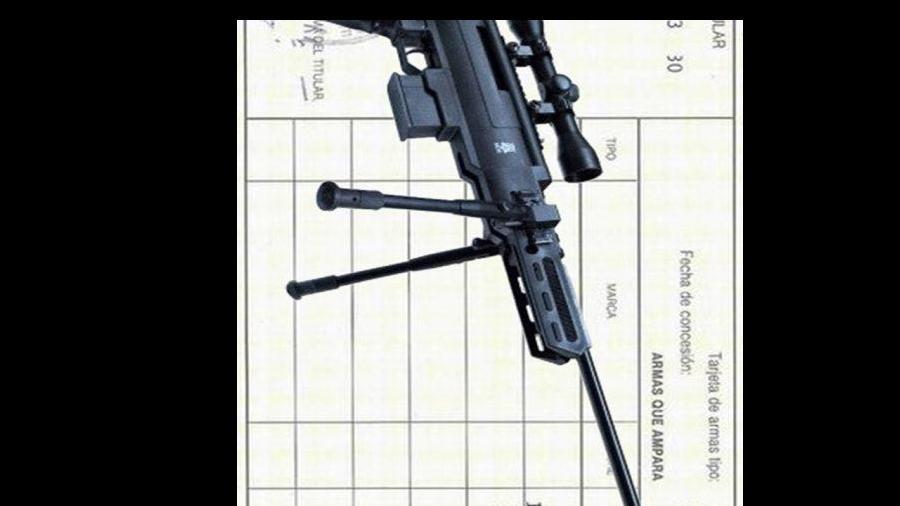larga: (285, 21, 640, 506)
